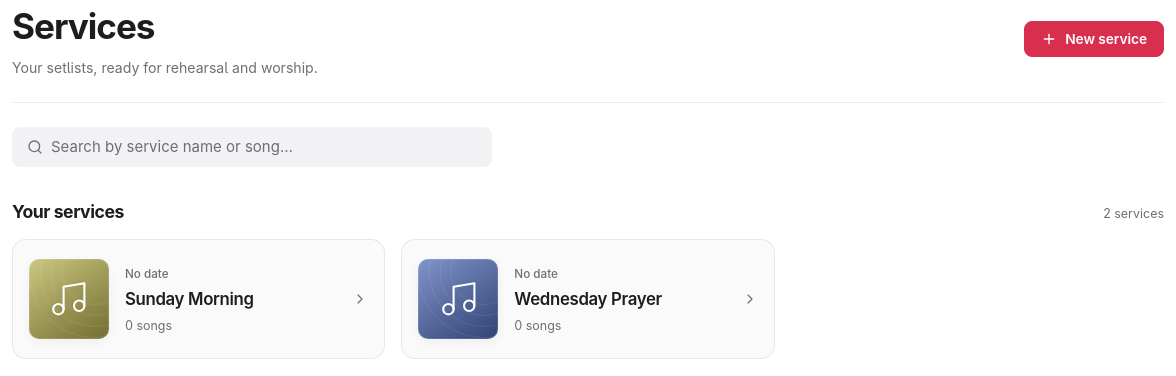
Test case: ServicesView › filters services by name
This screenshot has width=1176, height=376.
Check: the number of "ServiceCard" components is 2, box [12, 239, 385, 359]; [401, 239, 775, 359]
In the search field with placeholder "Search by service name or song…": (264, 147) [51, 137, 477, 156], type "wednesday"
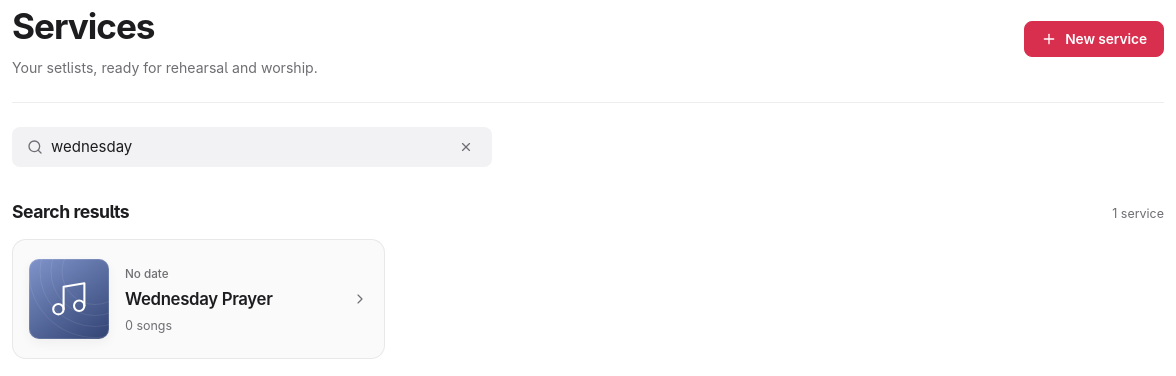
Check: the text "Wednesday Prayer" is shown, box [125, 289, 272, 309]
Check: the number of "ServiceCard" components is 1, box [12, 239, 385, 359]
